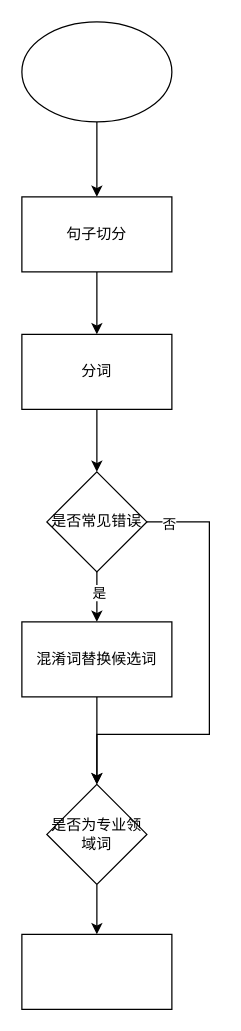
Image size: 241x1031. Some labels were removed from this diagram. Here are the shapes that lost their labels. From the top down, the centre of each, then its label:
the point at 96,71: Request
the point at 96,971: 加入保护列表
